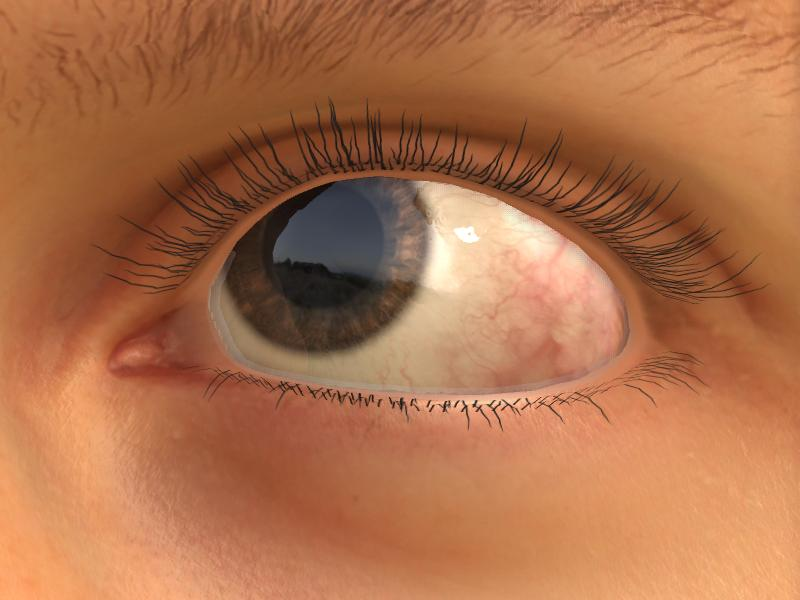eye: (227, 173, 429, 355)
